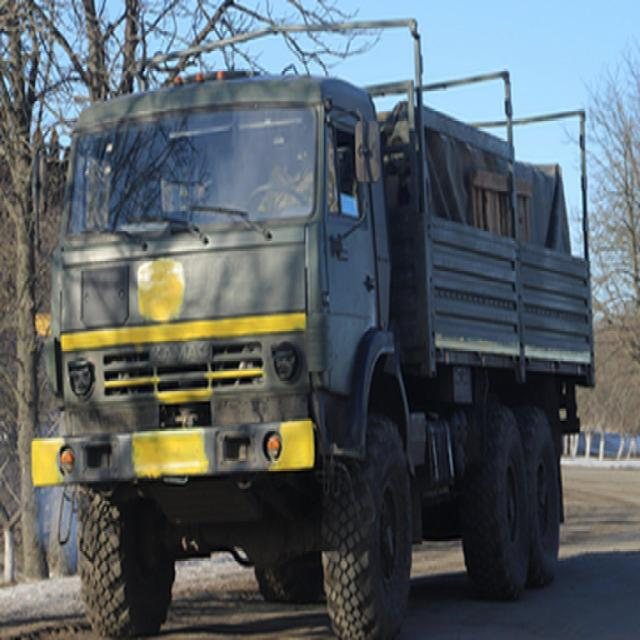TRUCK: (26, 55, 586, 638)
